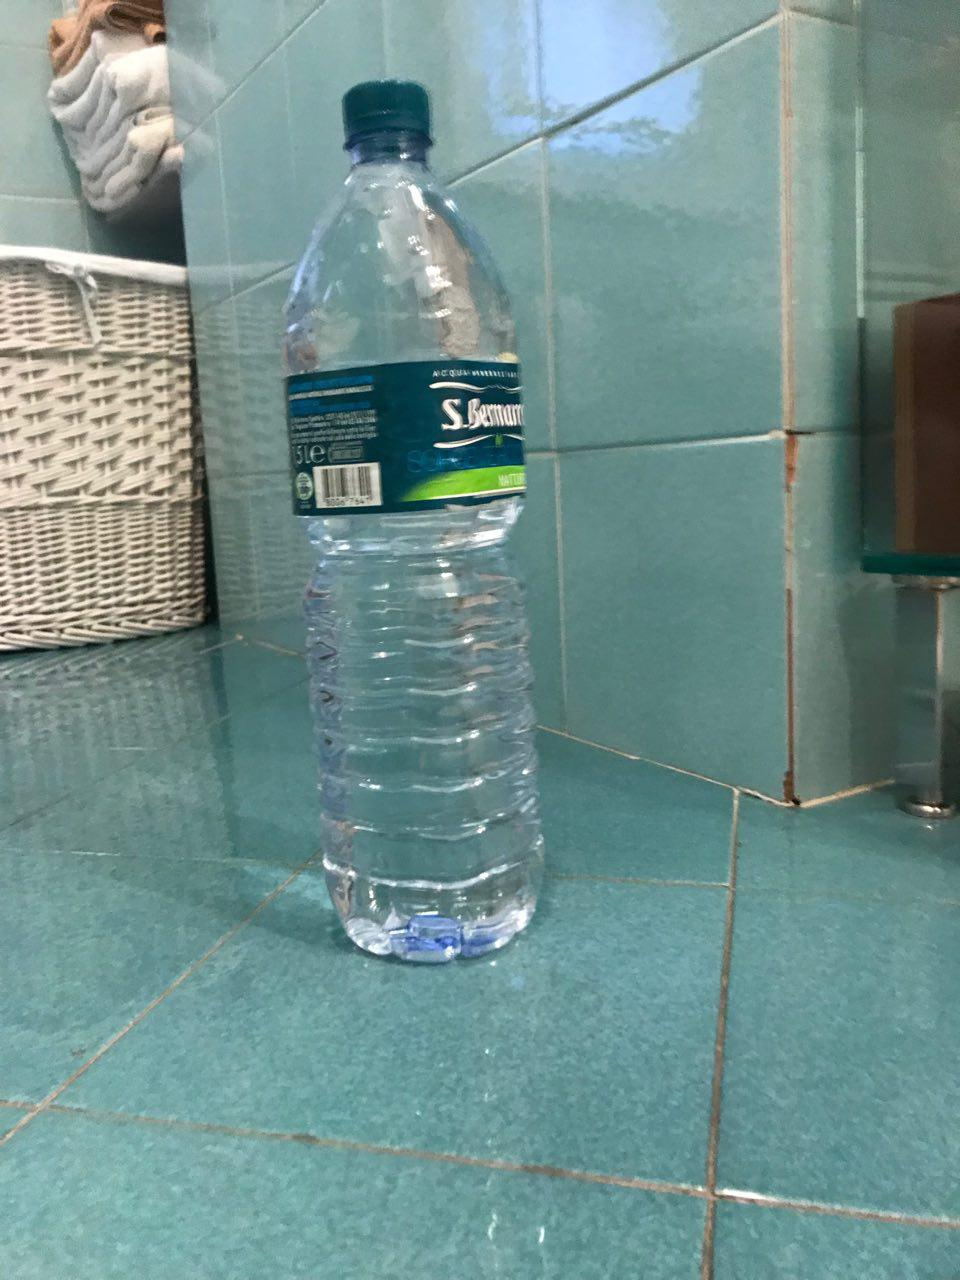san_bernardo: (279, 79, 546, 966)
